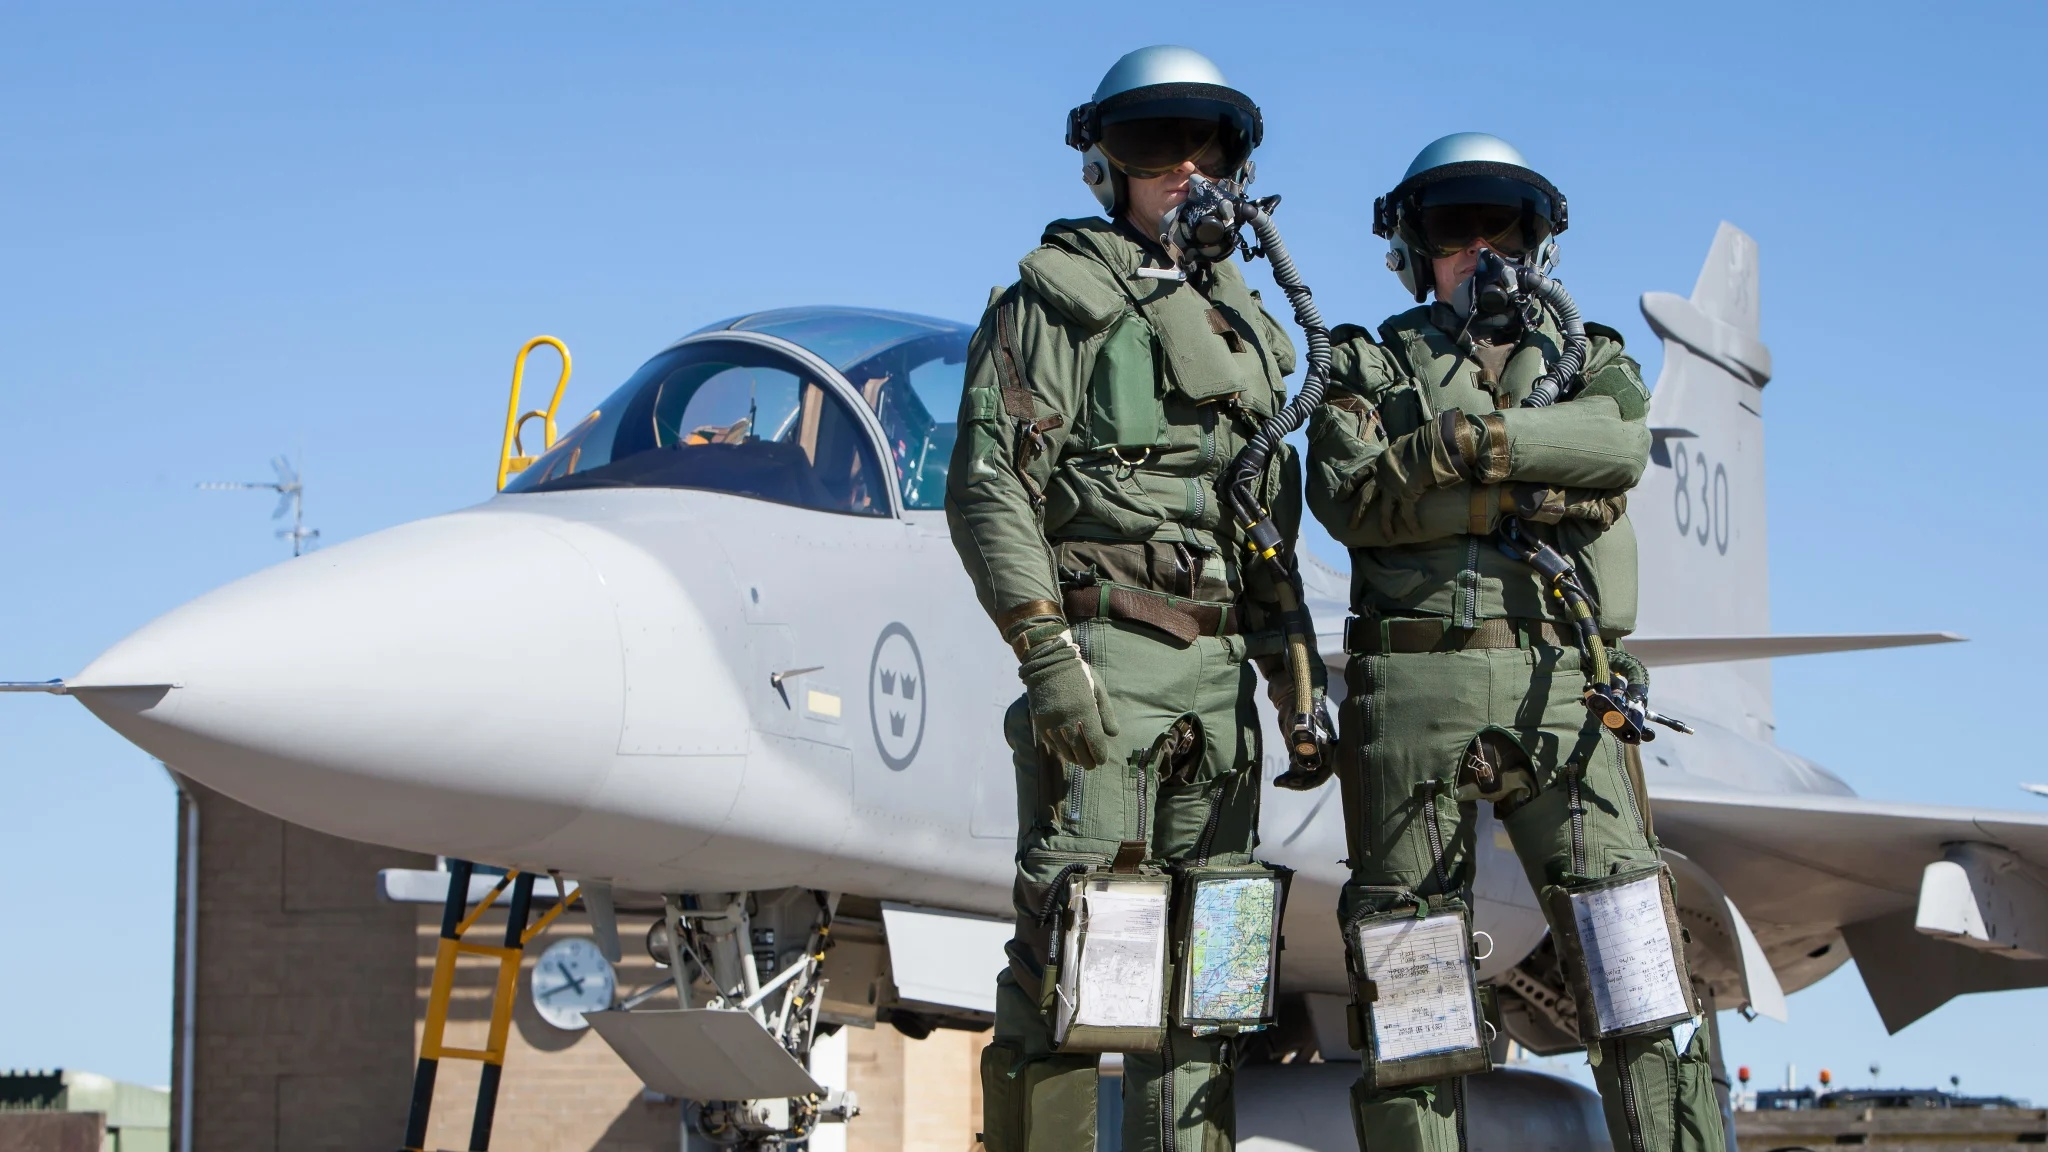JAS39: (1, 218, 2048, 1152)
